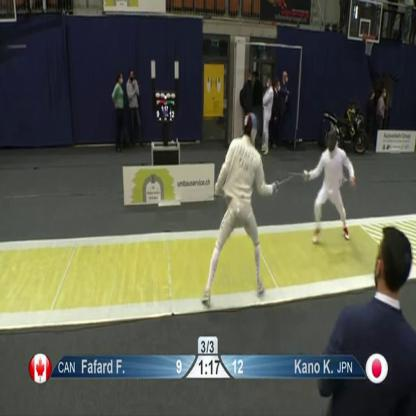crowd: (124, 62, 152, 150), (104, 63, 128, 152), (276, 59, 298, 144), (259, 72, 275, 160), (236, 66, 255, 139), (365, 73, 379, 155), (377, 80, 391, 148)
fencer: (195, 110, 281, 315), (301, 109, 360, 246)
referee: (313, 199, 416, 416)
